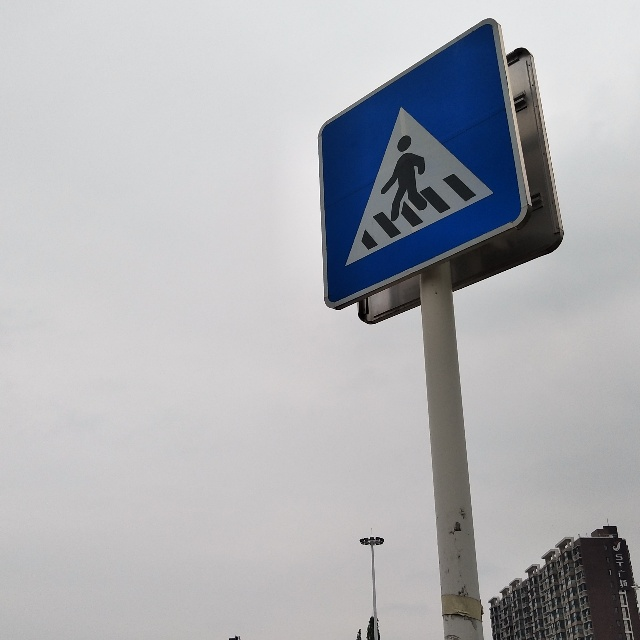crosswalk: (344, 107, 500, 268)
